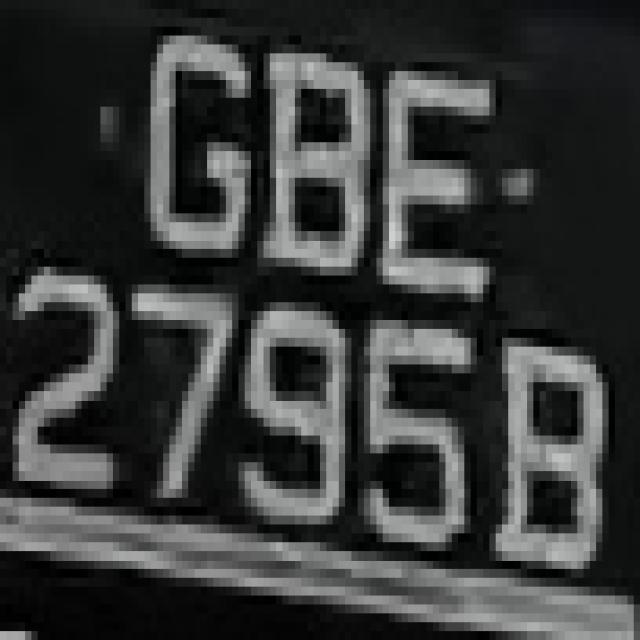2: (6, 249, 132, 533)
5: (345, 276, 471, 578)
7: (119, 266, 226, 498)
9: (238, 293, 352, 560)
B: (251, 36, 370, 320), (496, 302, 608, 596)
E: (370, 35, 508, 329)
G: (119, 0, 245, 276)
